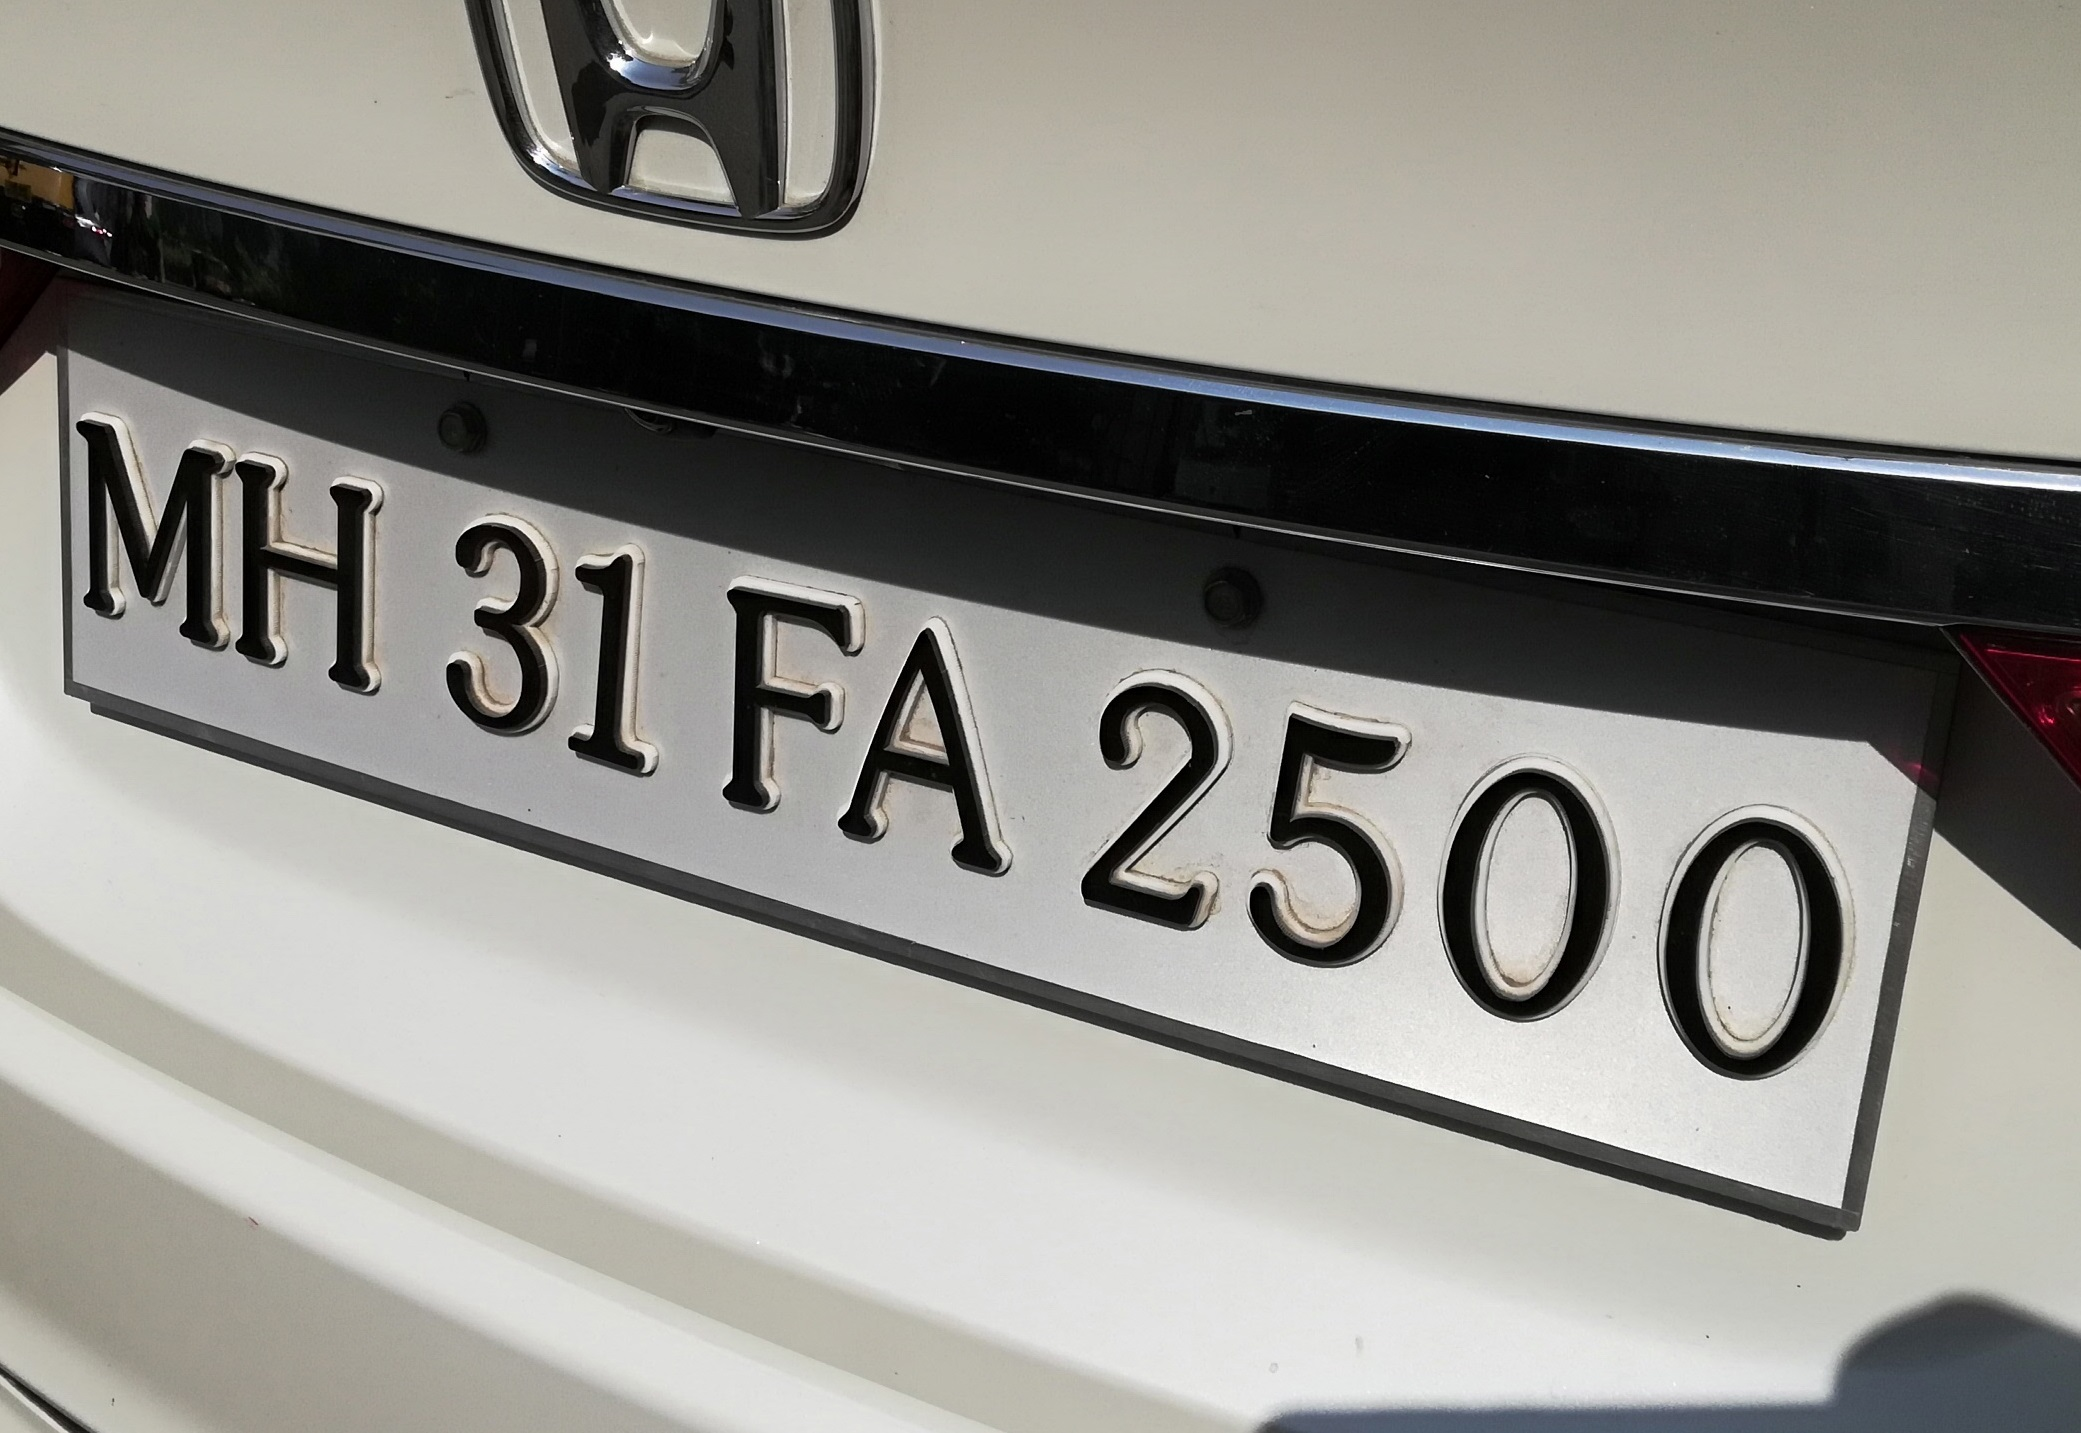numberplate: (49, 280, 1969, 1233)
